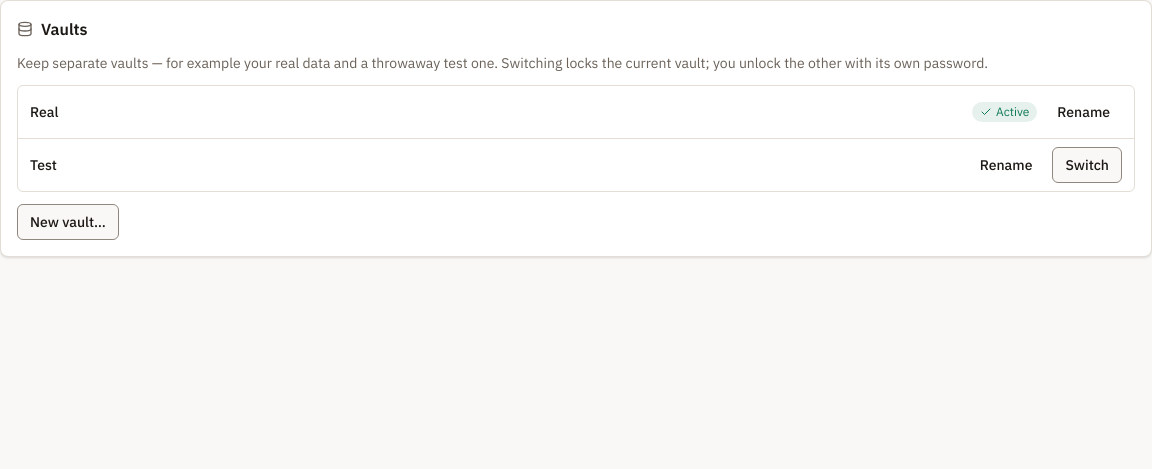
Test: blocks create without a name
Click the button "New vault…". click: (68, 222)
box: [17, 204, 119, 240]
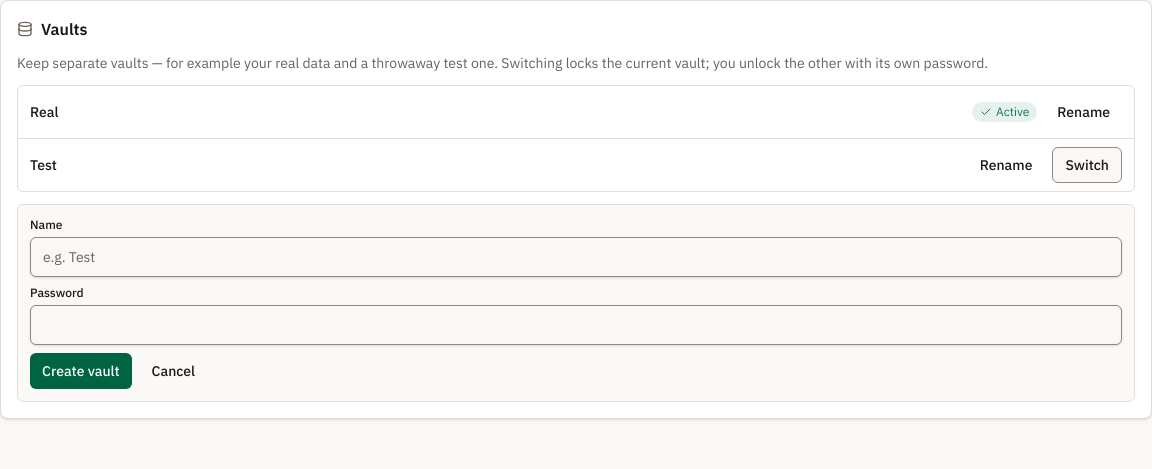
Type "hunter2hunter2" into the password field labelled "Password". click: (576, 325)
box: [30, 305, 1122, 345]
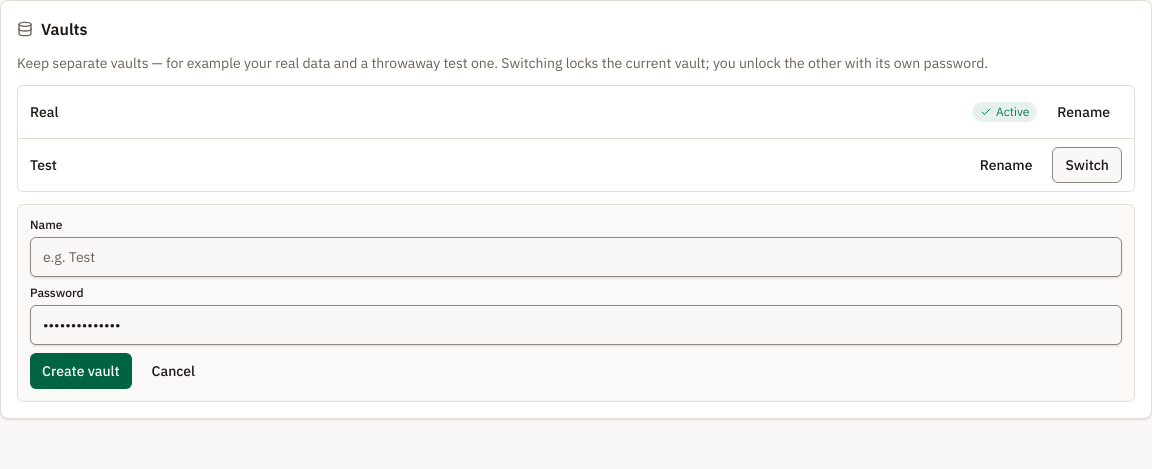
Click the button "Create vault". click: (81, 371)
box: [30, 353, 132, 389]
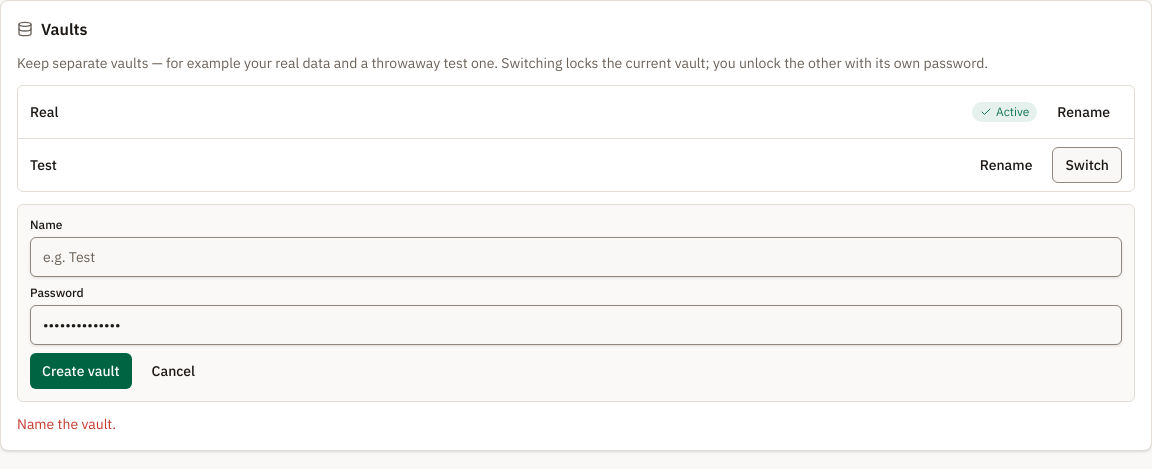
Result: the message shows "Name the vault" at [17, 415, 116, 433]
